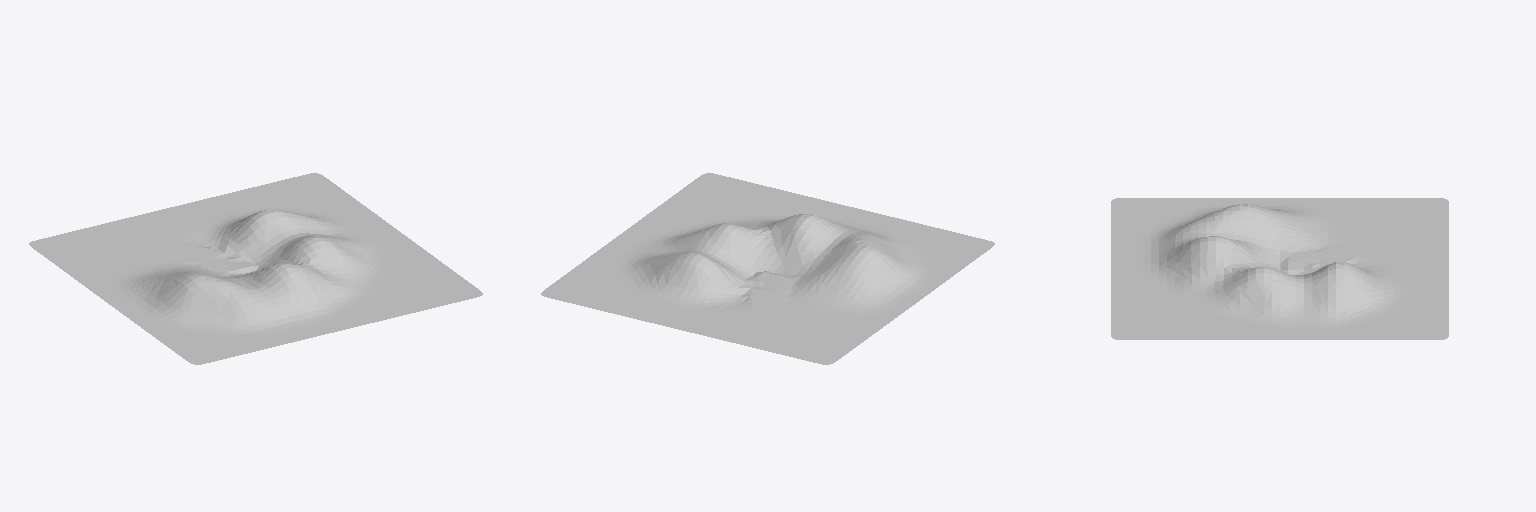
File: Ground15.obj
The picture shows the model from 3 angles: view 1: azimuth 30°, elevation 25°; view 2: azimuth 150°, elevation 25°; view 3: azimuth 270°, elevation 25°; orthographic projection.
Visible parts, largest first — view 1: Plane; view 2: Plane; view 3: Plane.
Part boxes in pixels (bbox=[...]): Plane: bbox=[29, 173, 482, 364]; Plane: bbox=[541, 173, 994, 364]; Plane: bbox=[1111, 198, 1448, 339].
Bounding box in the file's own units: 400 × 41.28 × 400.